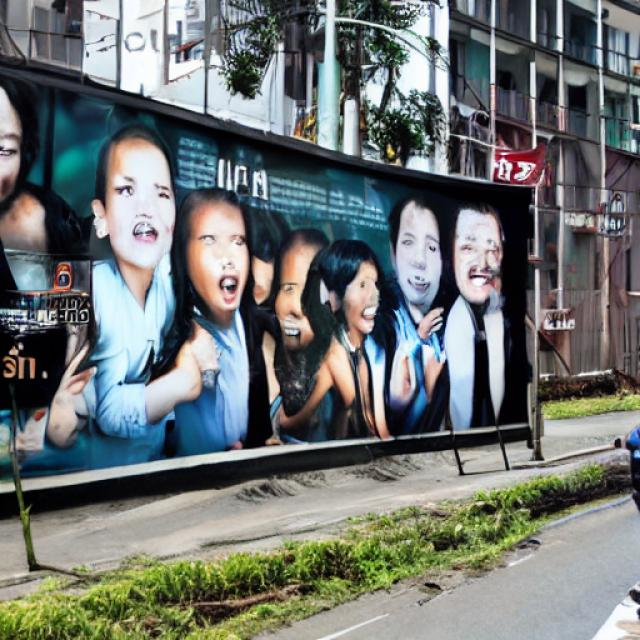Billboard: (1, 45, 532, 520)
